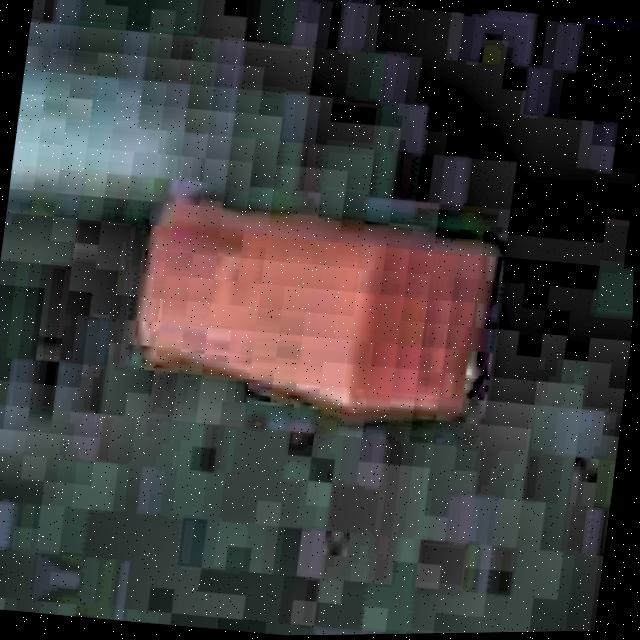bus: (106, 177, 517, 447)
